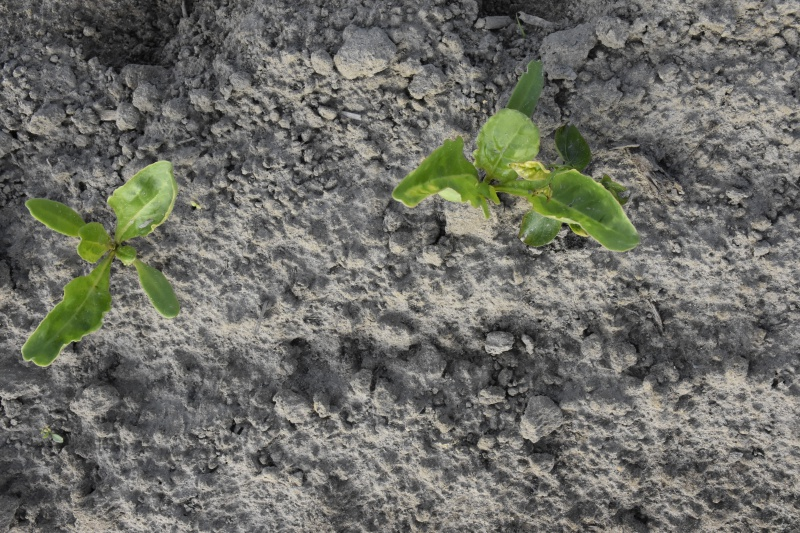sugar beet: (392, 61, 652, 251), (16, 158, 190, 368)
